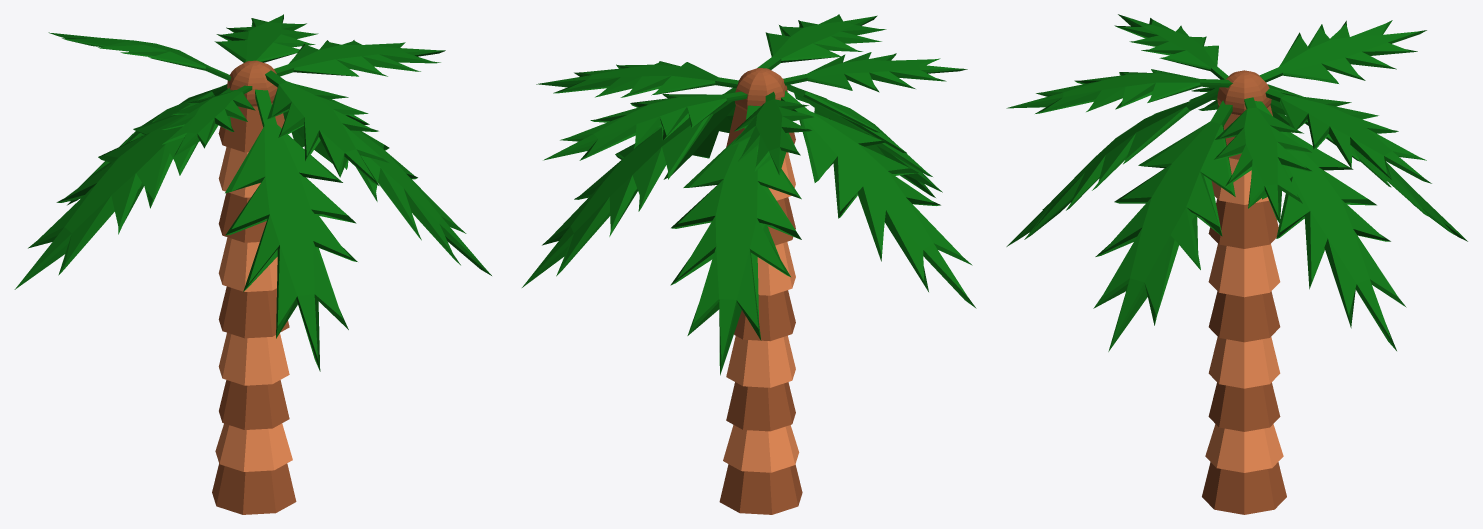
The model's file is COQUEIRO LEGO.fbx.
3 views of the same model, side by side, from view 1: azimuth 30°, elevation 25°; view 2: azimuth 150°, elevation 25°; view 3: azimuth 270°, elevation 25° (orthographic). The views are drawn at different scales.
Visible parts, largest first — view 1: Círculo, Círculo.004, Círculo.006, Círculo.001, Círculo.007, Cilindro, Cilindro.003, Cilindro.001, Círculo.005, Cilindro.002, Círculo.009, Cilindro.004 (+7 smaller); view 2: Círculo.003, Círculo.004, Círculo.002, Círculo.009, Círculo.007, Círculo.006, Círculo.005, Cilindro, Círculo.008, Cilindro.003, Cilindro.001, Cilindro.002 (+5 smaller); view 3: Círculo.001, Círculo.002, Círculo.007, Círculo.009, Círculo.008, Círculo, Círculo.006, Cilindro, Cilindro.005, Cilindro.003, Cilindro.004, Cilindro.001 (+7 smaller).
Part boxes in pixels (<box>): Círculo: <box>225,89,357,371</box>; Círculo.004: <box>14,88,235,289</box>; Círculo.006: <box>265,70,388,185</box>; Círculo.001: <box>344,120,491,275</box>; Círculo.007: <box>274,40,445,76</box>; Cilindro: <box>212,463,296,514</box>; Cilindro.003: <box>218,332,289,385</box>; Cilindro.001: <box>215,423,292,471</box>; Círculo.005: <box>161,85,255,156</box>; Cilindro.002: <box>219,380,289,429</box>; Círculo.009: <box>214,14,318,62</box>; Cilindro.004: <box>218,286,289,338</box>; Círculo.003: <box>670,105,801,375</box>; Círculo.004: <box>781,90,976,308</box>; Círculo.002: <box>522,87,736,287</box>; Círculo.009: <box>543,91,747,160</box>; Círculo.007: <box>536,61,738,97</box>; Círculo.006: <box>757,14,886,69</box>; Círculo.005: <box>783,52,967,92</box>; Cilindro: <box>719,464,802,514</box>; Círculo.008: <box>731,91,813,175</box>; Cilindro.003: <box>726,335,795,387</box>; Cilindro.001: <box>723,425,799,472</box>; Cilindro.002: <box>726,382,795,431</box>; Círculo.001: <box>1093,100,1235,351</box>; Círculo.002: <box>1255,101,1406,350</box>; Círculo.007: <box>1214,97,1311,223</box>; Círculo.009: <box>1265,88,1431,183</box>; Círculo.008: <box>1259,20,1426,83</box>; Círculo: <box>1006,87,1219,246</box>; Círculo.006: <box>1006,69,1232,113</box>; Cilindro: <box>1202,462,1286,514</box>; Cilindro.005: <box>1208,244,1280,297</box>; Cilindro.003: <box>1208,337,1280,388</box>; Cilindro.004: <box>1208,291,1280,342</box>; Cilindro.001: <box>1205,424,1283,472</box>.
Size of the model in its own units: 499 by 475 by 465.
